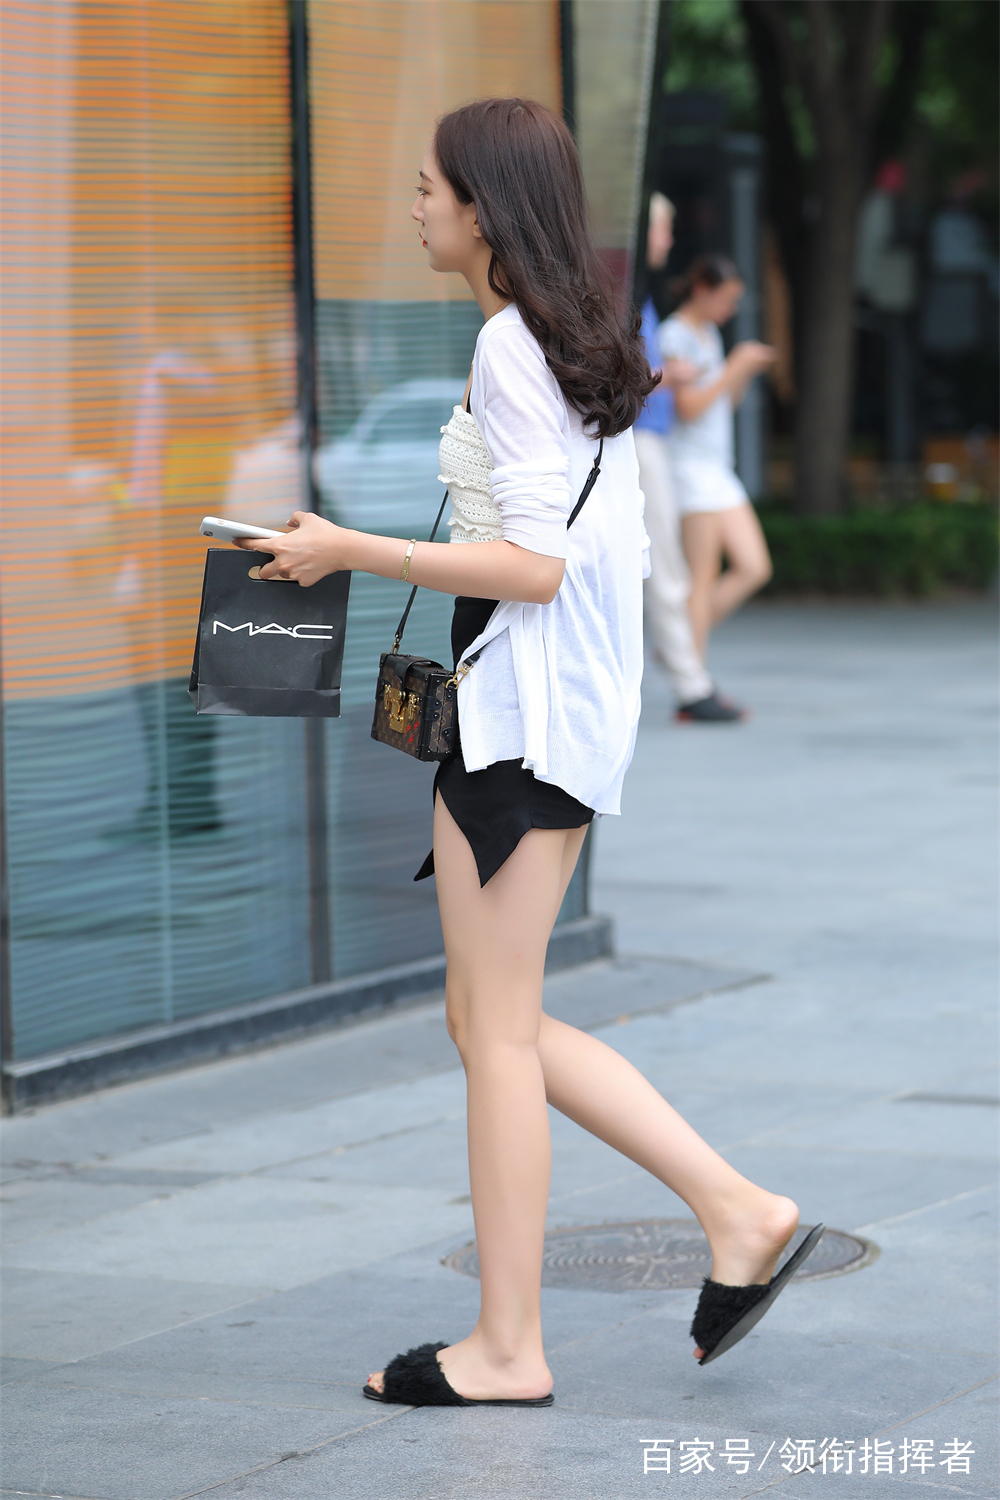person: (180, 105, 842, 1351)
